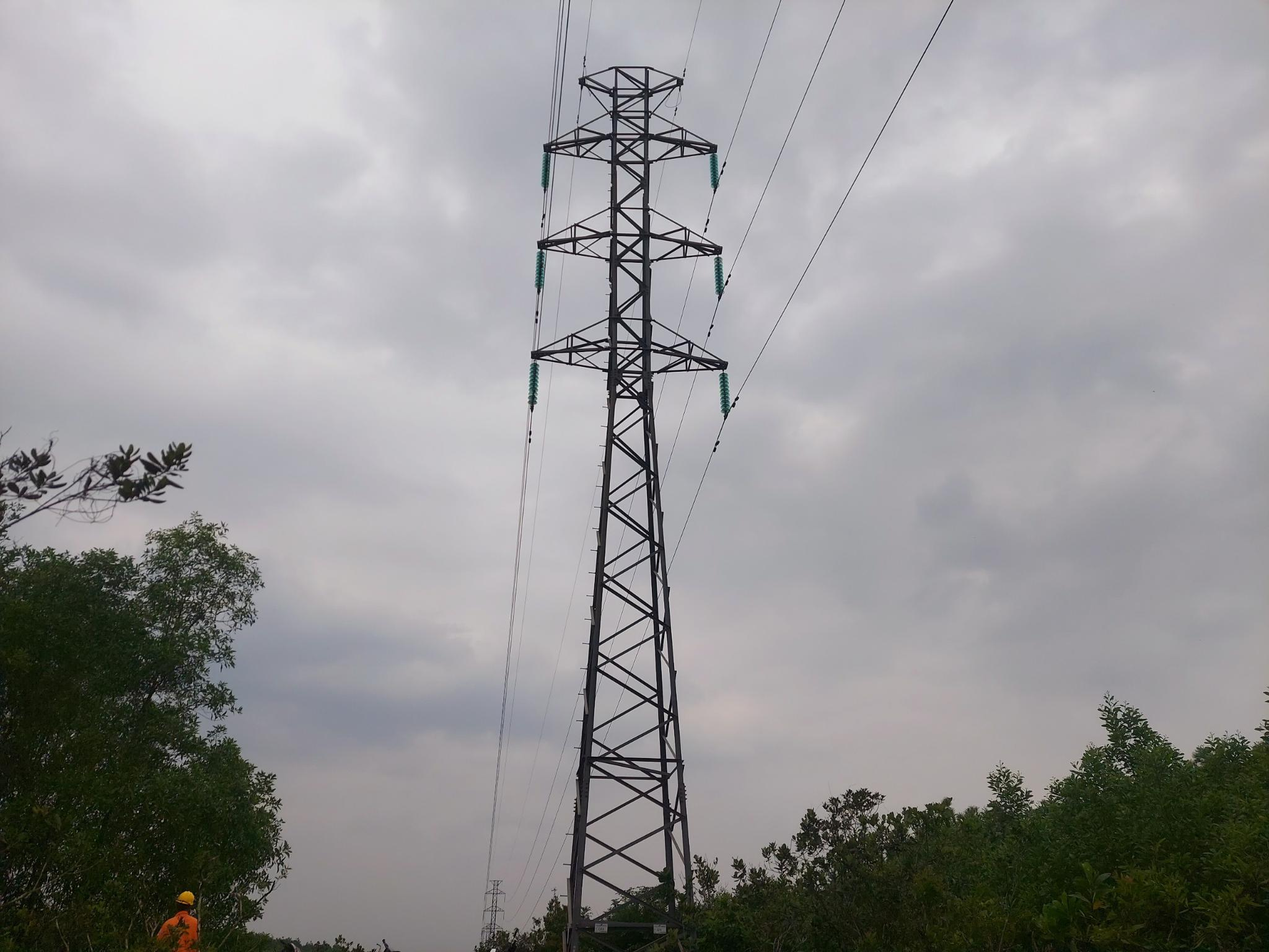tower: (517, 55, 746, 949)
